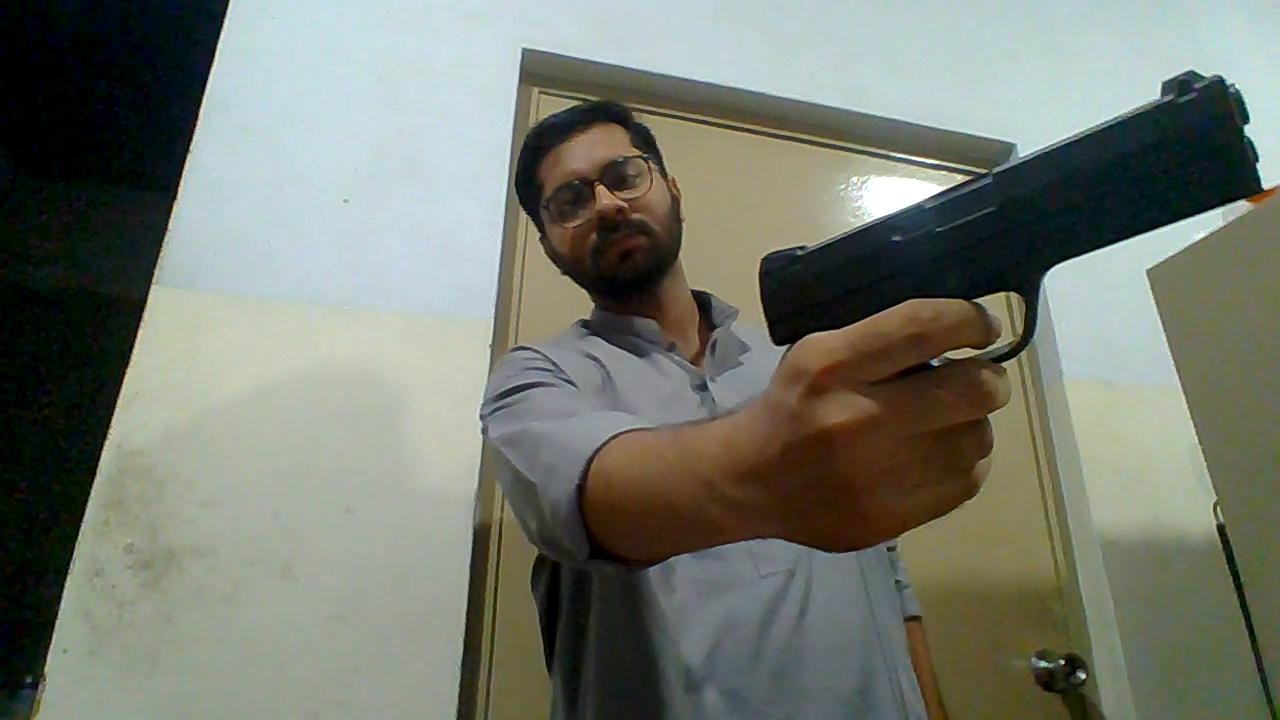criminal: (477, 66, 1264, 720)
weapon: (758, 69, 1263, 376)
